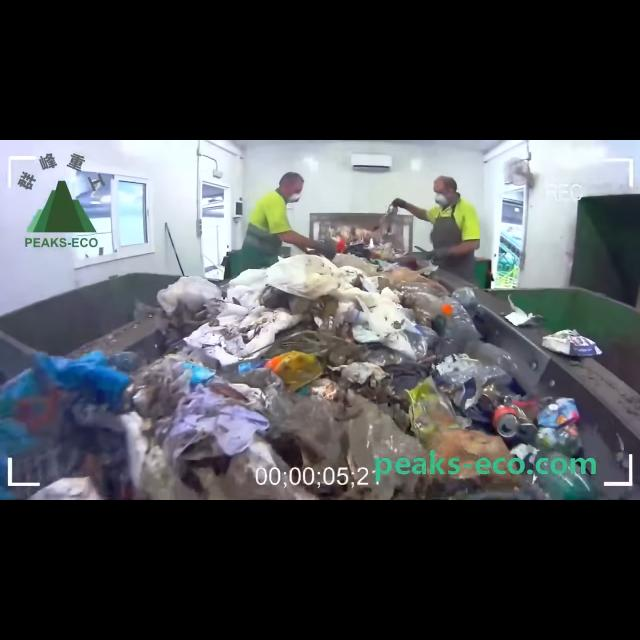trash: (534, 446, 598, 499), (436, 364, 514, 392), (472, 340, 518, 374)
